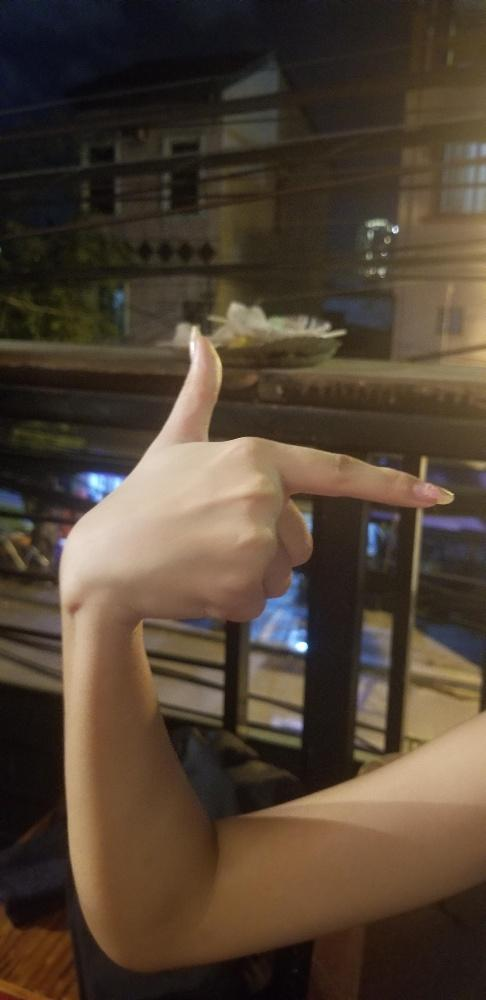g: (58, 321, 461, 625)
